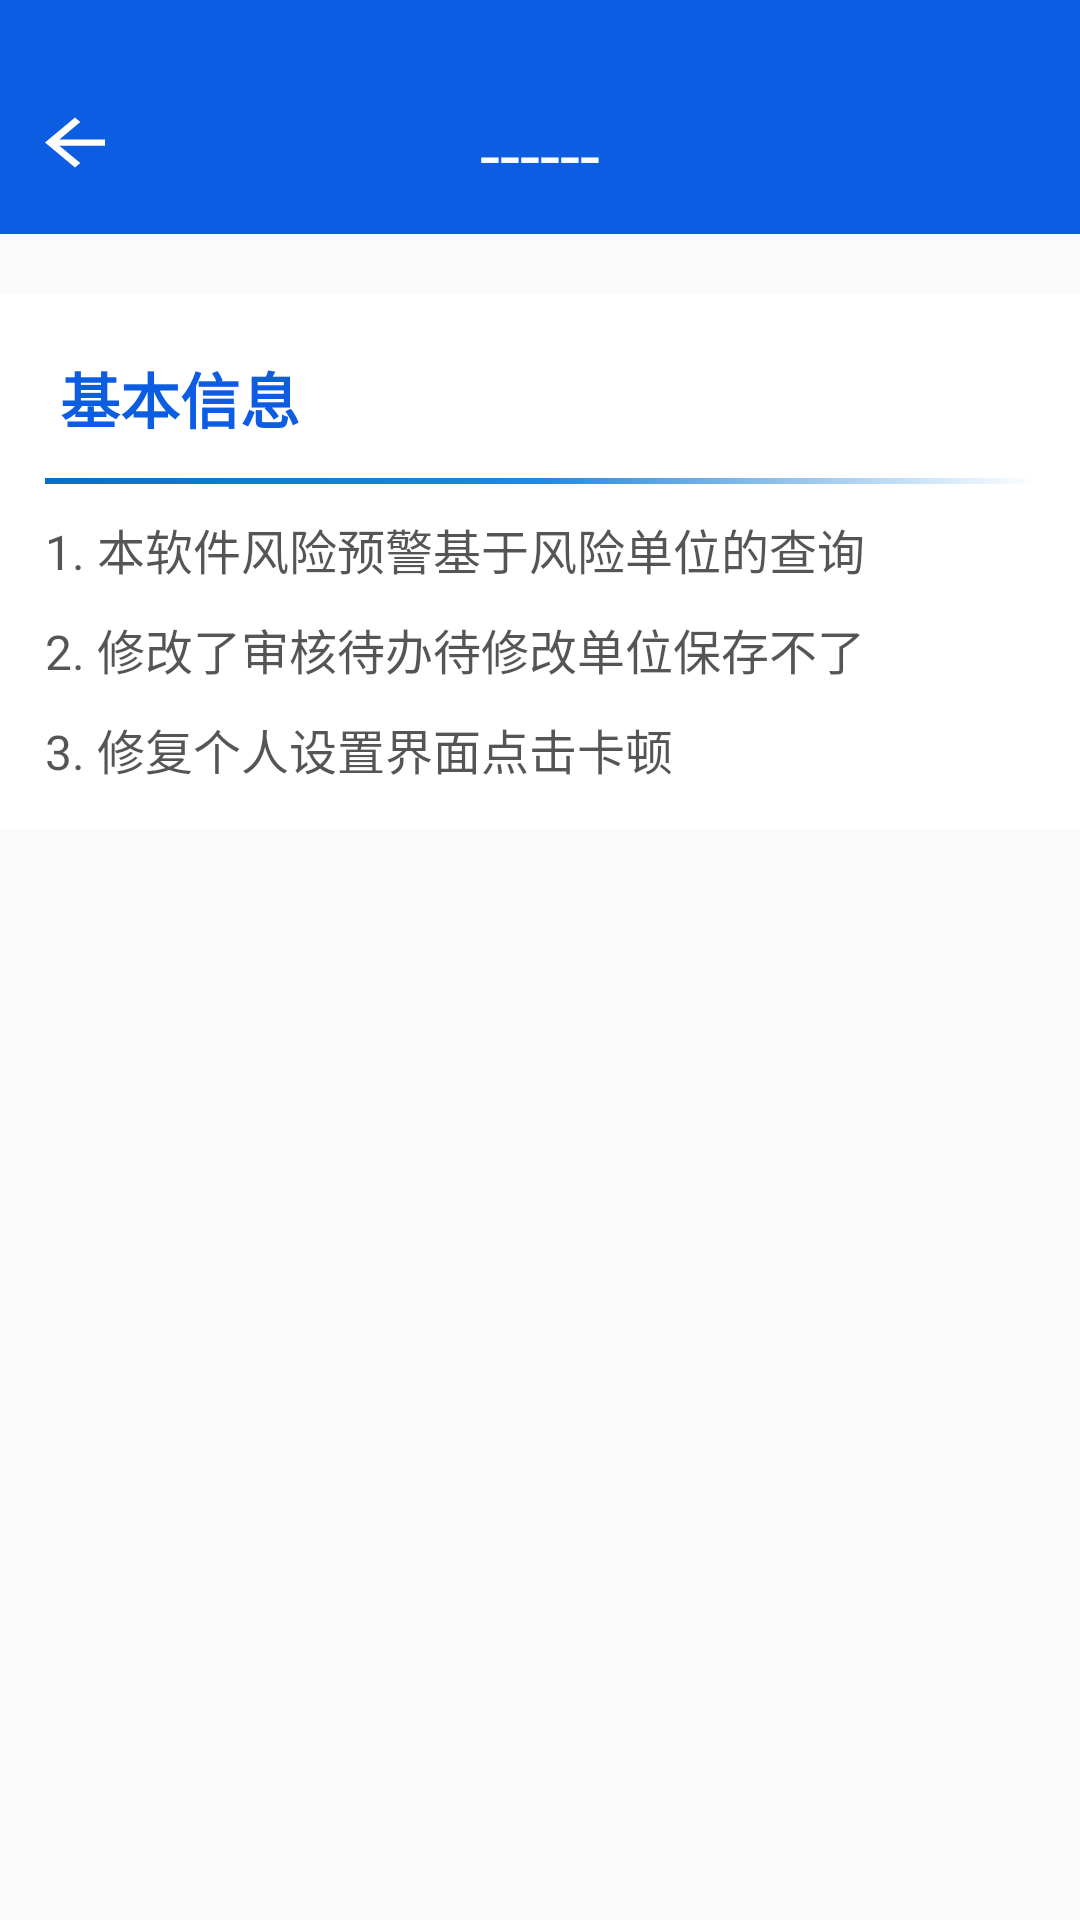

Locate icon controls on the screen. Image size 1080*1920, boxes as box=[x1, y1, x2, y2].
arrow back: box=[45, 117, 105, 168]
